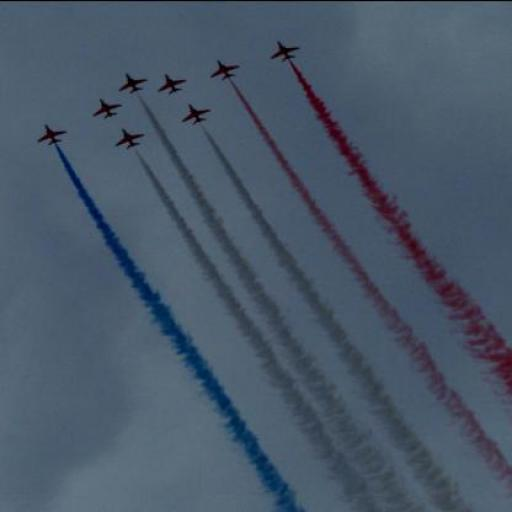aircraft: (27, 120, 71, 148), (107, 127, 151, 154), (174, 101, 216, 127), (150, 71, 190, 96), (86, 95, 123, 122), (199, 59, 244, 81), (114, 68, 152, 92), (270, 40, 304, 62)
